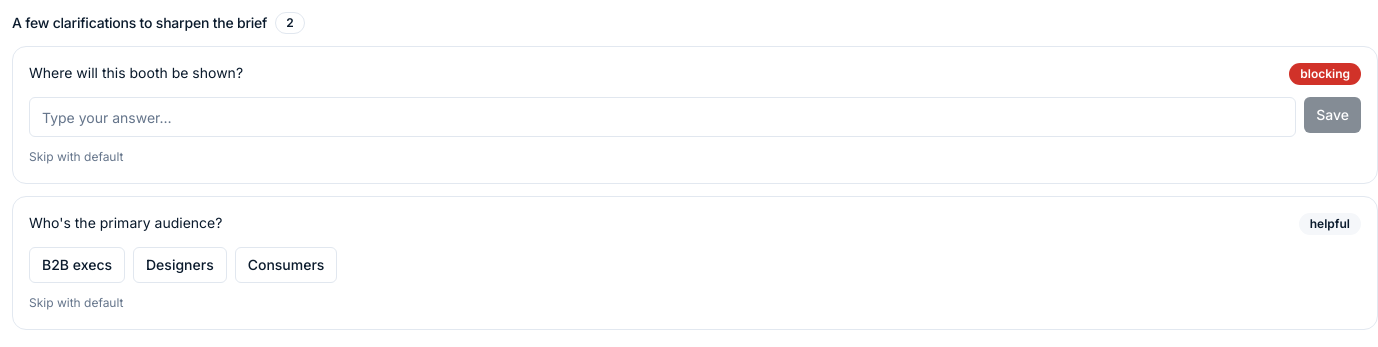
Test: BriefClarification › after a chip answer, the card shows the saved chip value read-only
Click the button "Designers": (180, 265) [133,247,227,283]
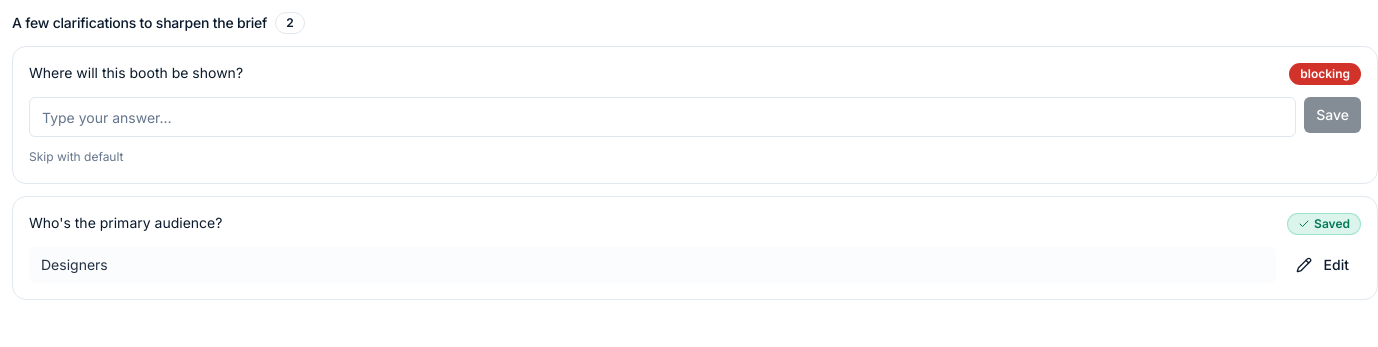
expect the text "Designers" is shown: met, box [29,247,1276,283]
expect the text "Saved" is shown: met, box [1287,213,1361,235]
expect the button "B2B execs" is gone: met
